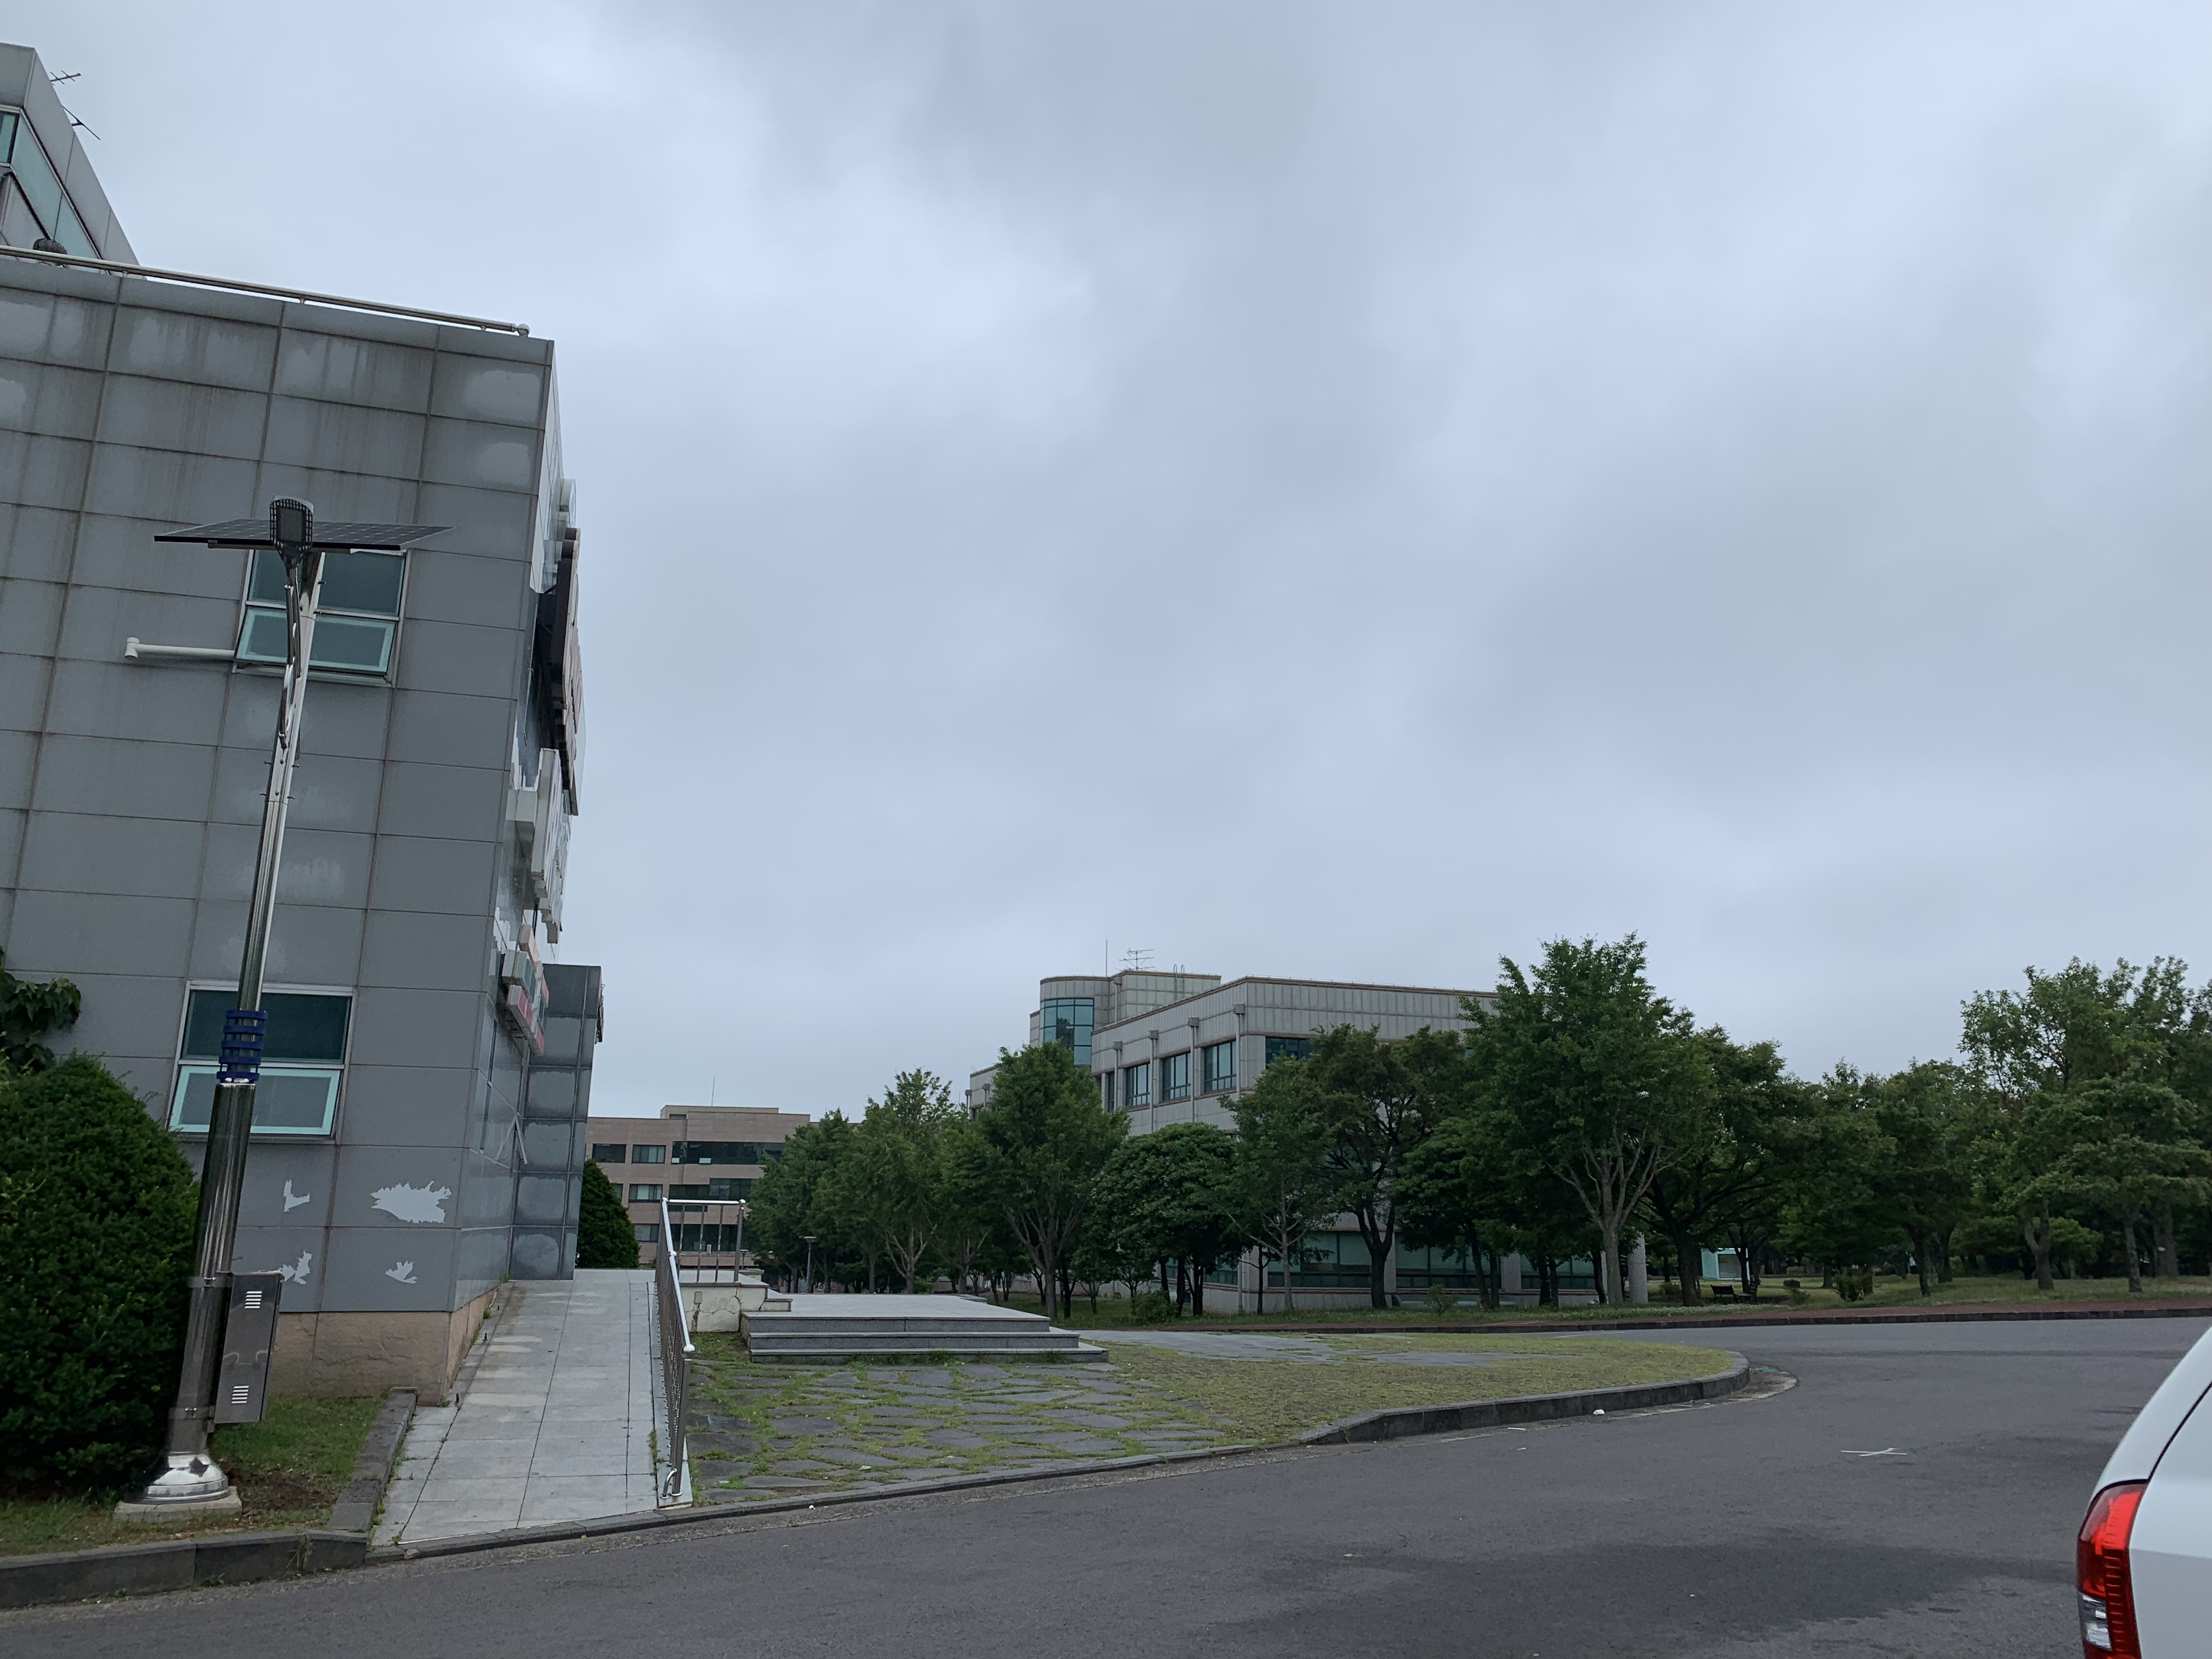Global House: (3, 164, 578, 1570)
Joint Experimental Labs: (578, 1096, 831, 1270)
Second Library: (1026, 958, 1508, 1110), (1230, 1209, 1531, 1316)
